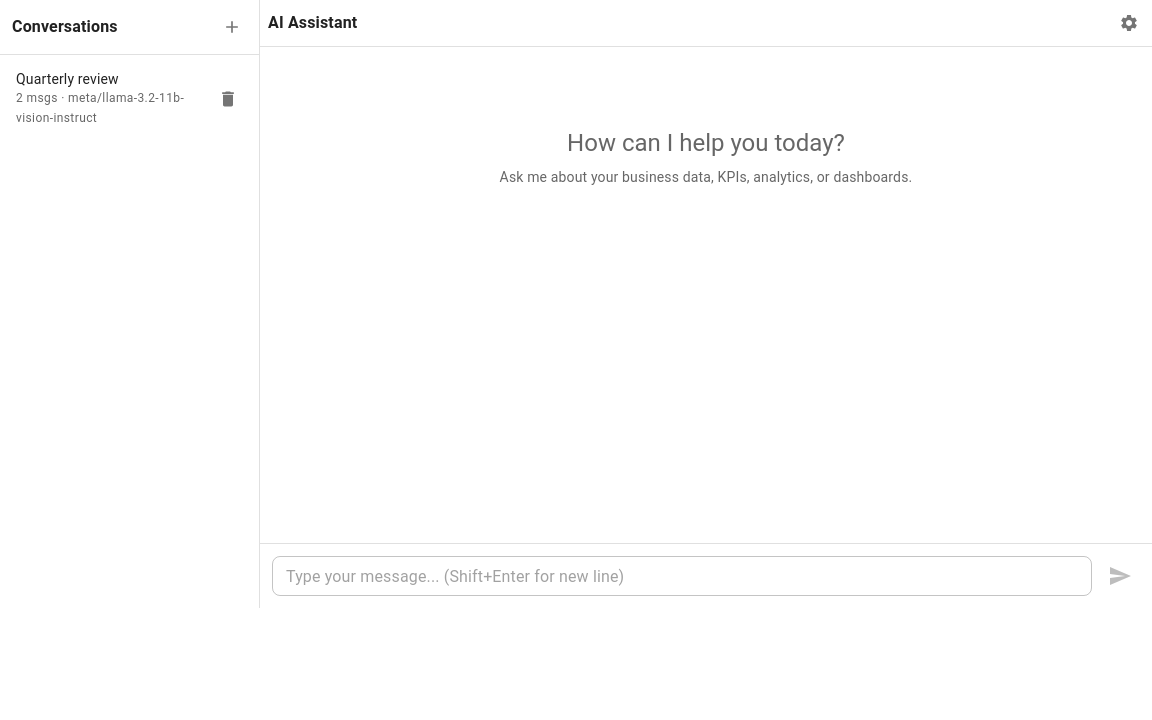
AI chat streaming under StrictMode › renders each streamed delta exactly once — no doubled words
Click the text "Quarterly review" at (67, 79), box [16,71,119,87]
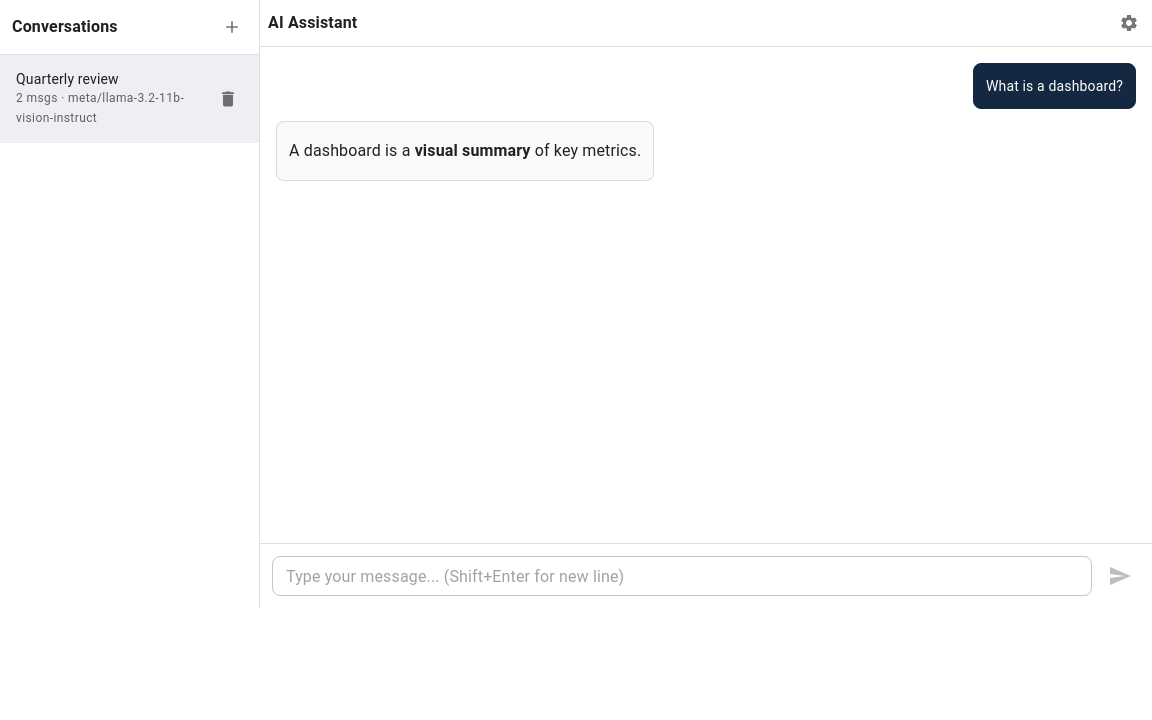
Expected: the text "A dashboard is a visual summary of key metrics." is shown, [289,138,641,164]
Type "What is revenue?" into the text box with placeholder "Type your message... (Shift+Enter for new line)" at (682, 576), box [286,564,1078,588]
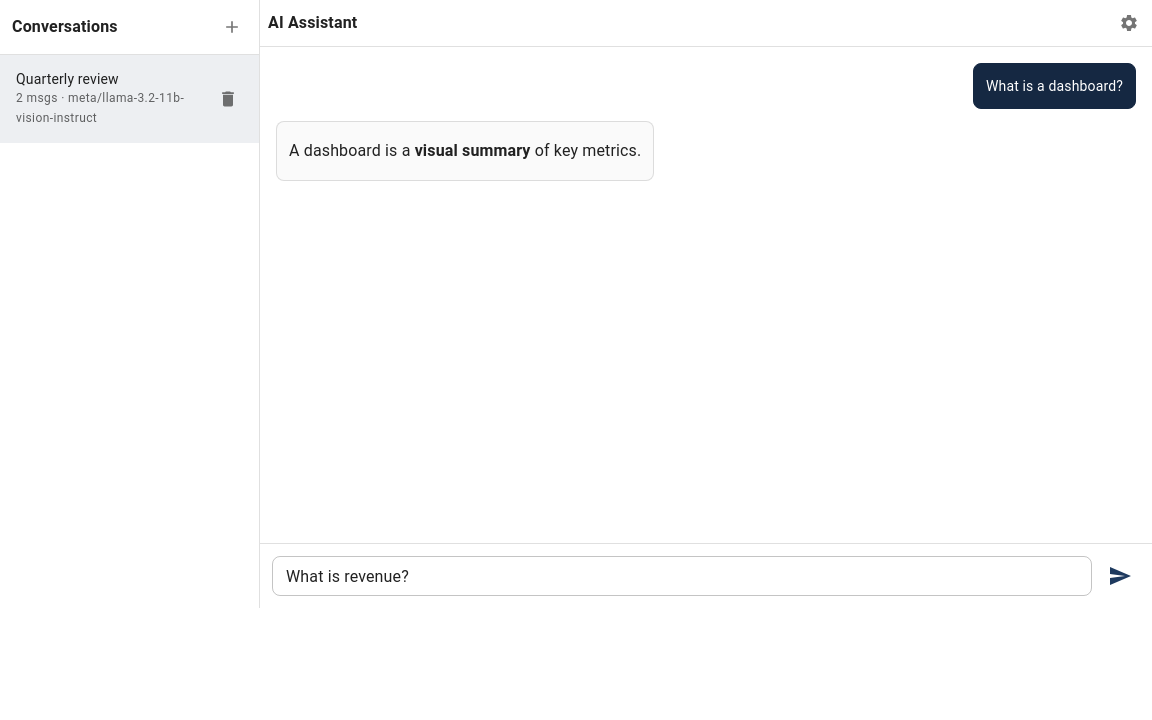
Press Enter in the text box with placeholder "Type your message... (Shift+Enter for new line)", box [286,564,1078,588]
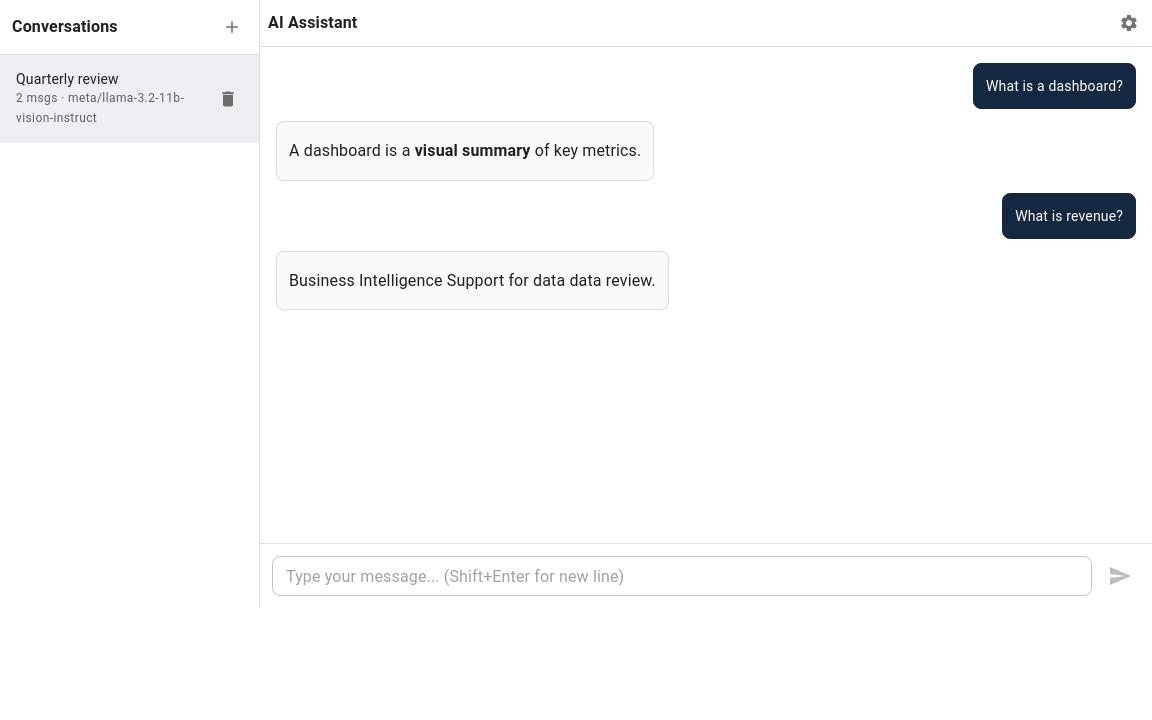
Expected: the text "Business Intelligence Support for data data review." is shown, [289,268,656,293]
